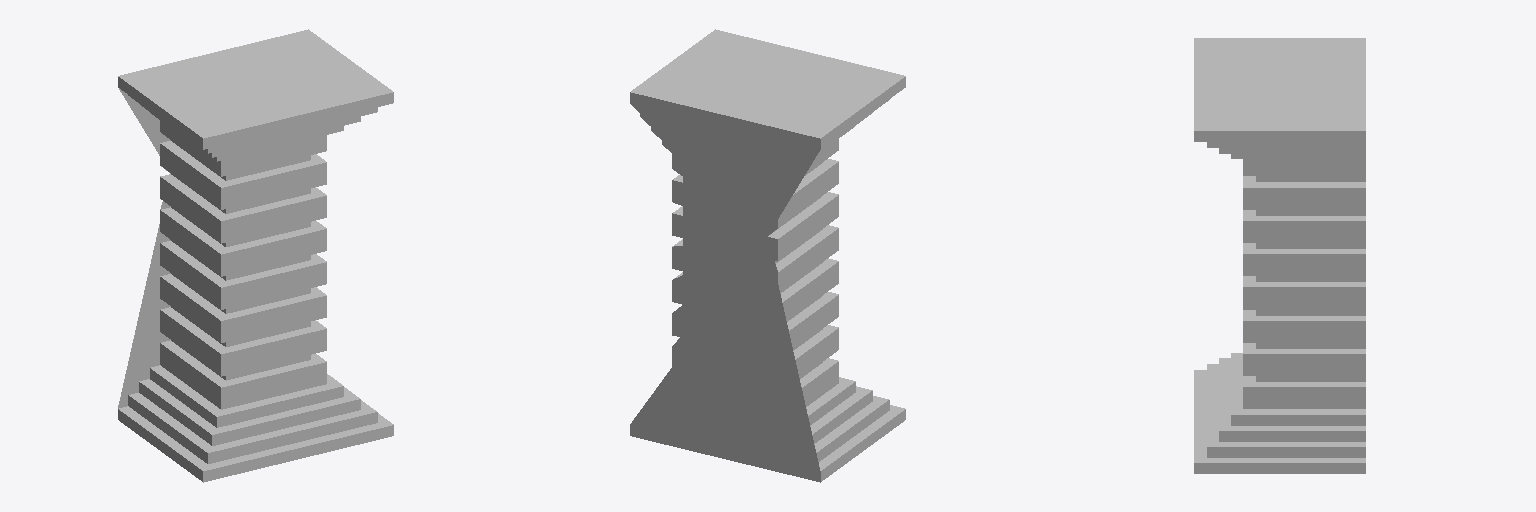
File: Pillar_Ext_SemiBricks.obj
The picture shows the model from 3 angles: view 1: azimuth 30°, elevation 25°; view 2: azimuth 150°, elevation 25°; view 3: azimuth 270°, elevation 25°; orthographic projection.
Visible parts, largest first — view 1: Pillar_Ext_SemiBricks_Pillar_Ext_SemiBricks.001; view 2: Pillar_Ext_SemiBricks_Pillar_Ext_SemiBricks.001; view 3: Pillar_Ext_SemiBricks_Pillar_Ext_SemiBricks.001.
Part boxes in pixels (bbox=[...]): Pillar_Ext_SemiBricks_Pillar_Ext_SemiBricks.001: bbox=[118, 29, 393, 482]; Pillar_Ext_SemiBricks_Pillar_Ext_SemiBricks.001: bbox=[630, 29, 905, 482]; Pillar_Ext_SemiBricks_Pillar_Ext_SemiBricks.001: bbox=[1194, 38, 1365, 473].
Bounding box in the file's own units: 1.8 × 3.1 × 1.4.